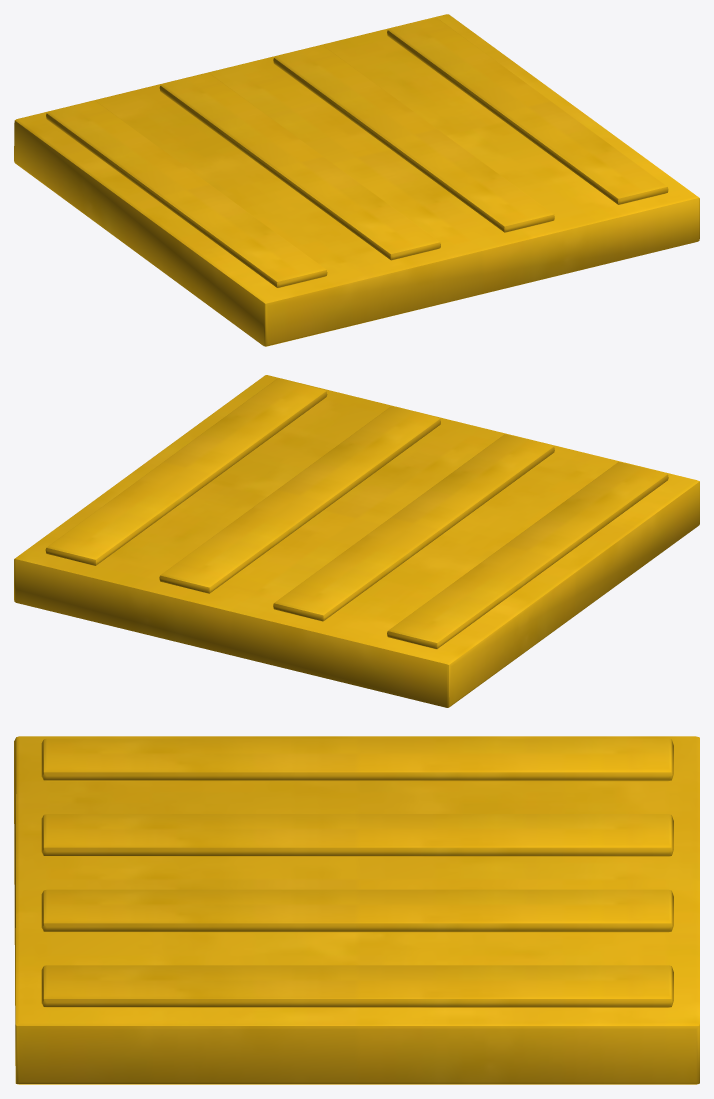
The model's file is PAV-CAL-005_lod1.glb.
3 renders of one model, top to bottom at view 1: azimuth 30°, elevation 25°; view 2: azimuth 150°, elevation 25°; view 3: azimuth 270°, elevation 25°, orthographic. The views are drawn at different scales.
Visible parts, largest first — view 1: PAV-CAL-005_placa, PAV-CAL-005_barra2, PAV-CAL-005_barra3, PAV-CAL-005_barra0, PAV-CAL-005_barra1; view 2: PAV-CAL-005_placa, PAV-CAL-005_barra1, PAV-CAL-005_barra0, PAV-CAL-005_barra3, PAV-CAL-005_barra2; view 3: PAV-CAL-005_placa, PAV-CAL-005_barra2, PAV-CAL-005_barra0, PAV-CAL-005_barra1, PAV-CAL-005_barra3.
Boxes of the visible parts, left/top/right/bottom form: PAV-CAL-005_placa: left=14, top=14, right=699, bottom=346; PAV-CAL-005_barra2: left=273, top=45, right=554, bottom=232; PAV-CAL-005_barra3: left=387, top=18, right=668, bottom=204; PAV-CAL-005_barra0: left=46, top=101, right=327, bottom=288; PAV-CAL-005_barra1: left=159, top=73, right=440, bottom=260; PAV-CAL-005_placa: left=14, top=375, right=699, bottom=707; PAV-CAL-005_barra1: left=273, top=434, right=554, bottom=621; PAV-CAL-005_barra0: left=387, top=462, right=668, bottom=649; PAV-CAL-005_barra3: left=45, top=378, right=327, bottom=565; PAV-CAL-005_barra2: left=159, top=406, right=440, bottom=593; PAV-CAL-005_placa: left=14, top=736, right=699, bottom=1084; PAV-CAL-005_barra2: left=41, top=889, right=673, bottom=932; PAV-CAL-005_barra0: left=41, top=738, right=673, bottom=781; PAV-CAL-005_barra1: left=41, top=814, right=673, bottom=856; PAV-CAL-005_barra3: left=41, top=965, right=673, bottom=1007.
Bounding box in the file's own units: 0.25 × 0.03 × 0.2494.
1 material, 1 textured.
